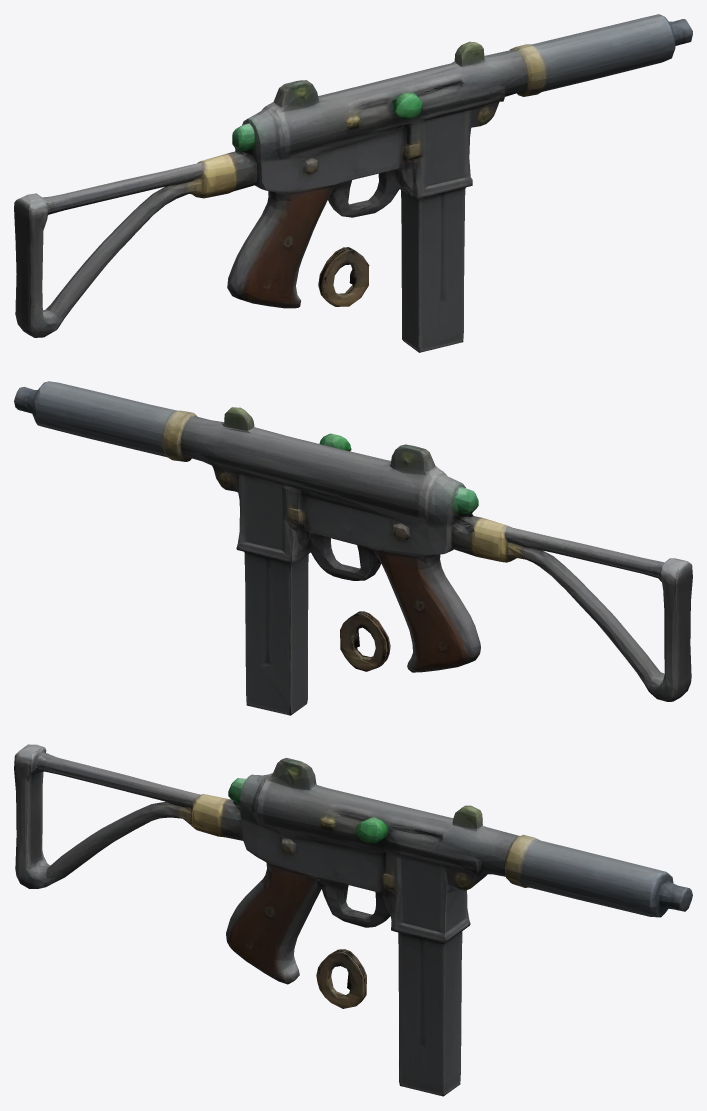
Rendered from smg.glb.
3 renders of one model, top to bottom at view 1: azimuth 30°, elevation 25°; view 2: azimuth 150°, elevation 25°; view 3: azimuth 330°, elevation 25°, orthographic.
Parts seen in each view (by area): view 1: geometry_0; view 2: geometry_0; view 3: geometry_0.
Part boxes in pixels (left/top/right/bottom): geometry_0: left=14, top=14, right=692, bottom=352; geometry_0: left=14, top=381, right=692, bottom=715; geometry_0: left=14, top=744, right=692, bottom=1096.
Bounding box in the file's own units: 1 × 0.4192 × 0.0906.
Materials: 1 (1 with a texture image).
